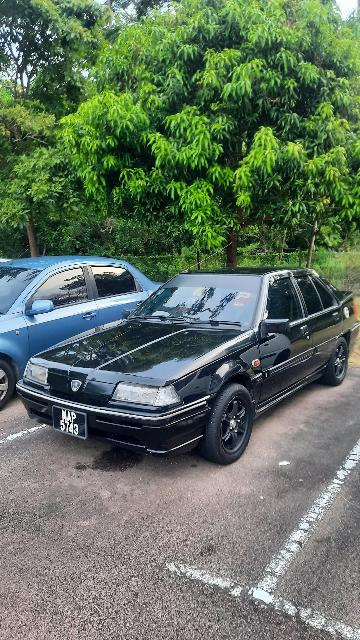License_Plate: (47, 401, 91, 441)
car: (9, 266, 360, 467)
